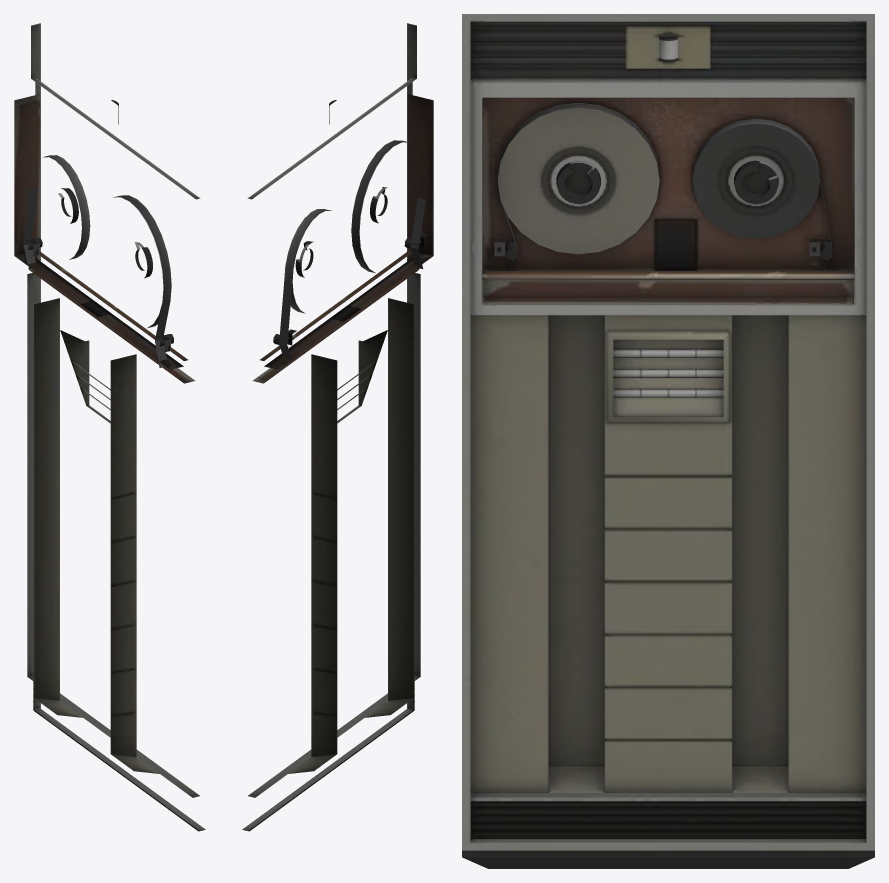
3 renders of one model, left to right at view 1: azimuth 30°, elevation 25°; view 2: azimuth 150°, elevation 25°; view 3: azimuth 270°, elevation 25°, orthographic. The views are drawn at different scales.
Visible parts, largest first — view 1: body0_model0_lod0_mesh0; view 2: body0_model0_lod0_mesh0; view 3: body0_model0_lod0_mesh0.
Part boxes in pixels (x1,y1,x2,y2): body0_model0_lod0_mesh0: (14, 23, 205, 831); body0_model0_lod0_mesh0: (242, 23, 433, 831); body0_model0_lod0_mesh0: (462, 14, 874, 868).
Bounding box in the file's own units: 6.49 × 112 × 47.99.
1 material, 1 textured.
